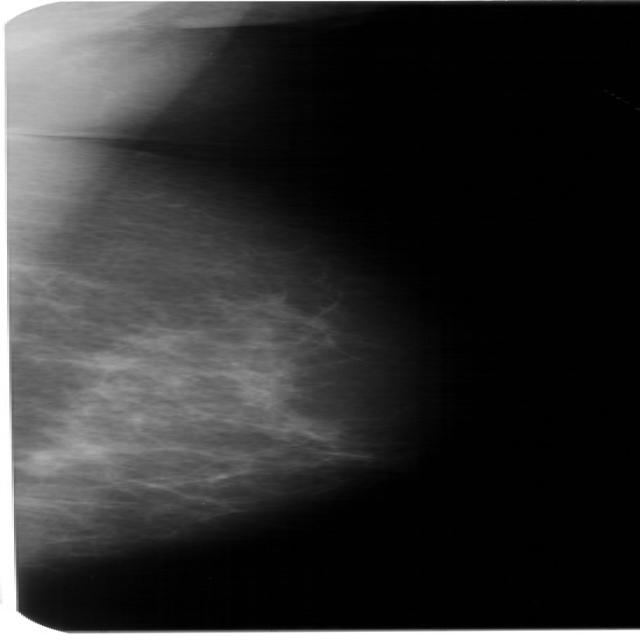tumour: (14, 451, 70, 476)
